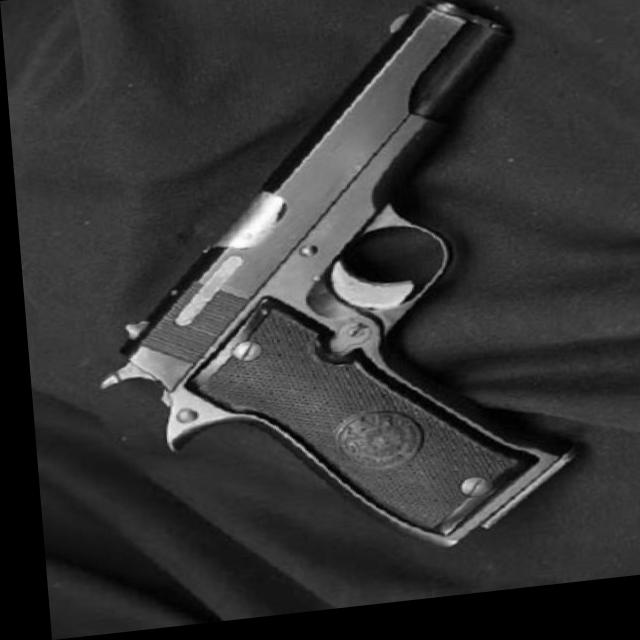handgun: (65, 0, 578, 584)
